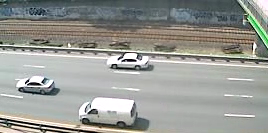car: (76, 95, 141, 127), (14, 74, 57, 98), (105, 51, 152, 72)
